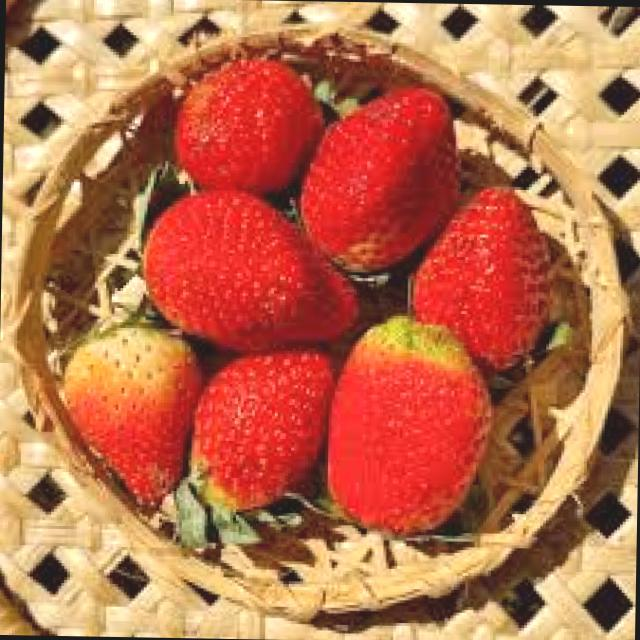strawberry: (292, 50, 472, 308), (116, 183, 359, 344), (327, 316, 492, 540), (392, 182, 563, 365), (168, 350, 324, 528), (71, 315, 194, 534)
